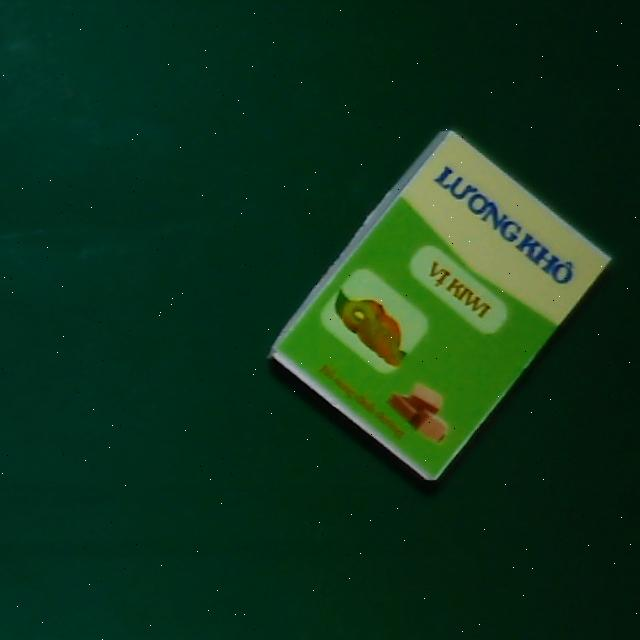kiwi: (260, 123, 613, 486)
